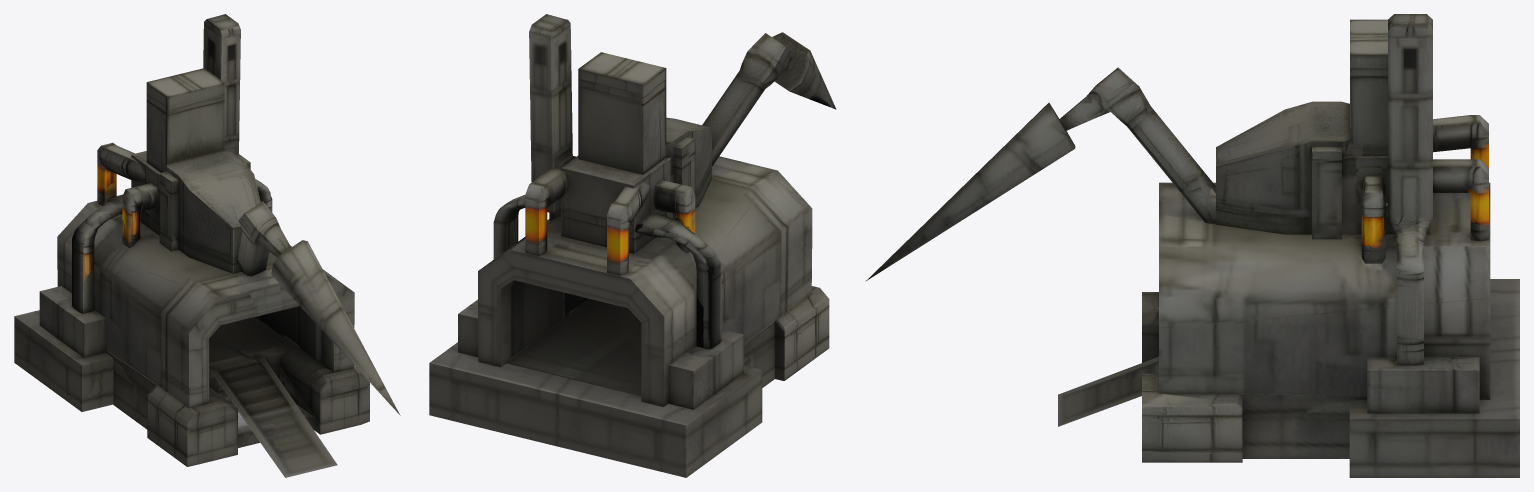
The model's file is drill_tunnel.glb.
3 renders of one model, left to right at view 1: azimuth 30°, elevation 25°; view 2: azimuth 150°, elevation 25°; view 3: azimuth 270°, elevation 25°, orthographic. The views are drawn at different scales.
Parts seen in each view (by area): view 1: Mesh_0; view 2: Mesh_0; view 3: Mesh_0.
Part boxes in pixels (x1,y1,x2,y2): Mesh_0: (14, 14, 400, 477); Mesh_0: (429, 14, 836, 477); Mesh_0: (865, 14, 1519, 477).
Bounding box in the file's own units: 1.39 × 1.95 × 2.74.
Materials: 1 (1 with a texture image).
